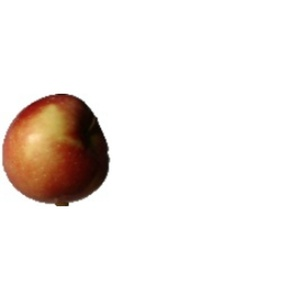maçã braeburn: (5, 91, 111, 202)
